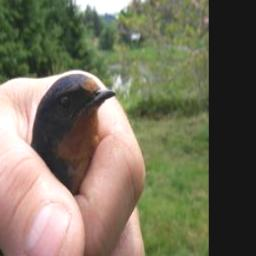Swallow: (29, 69, 118, 196)
